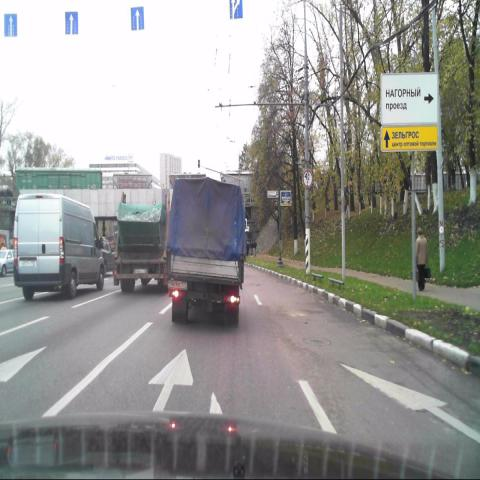5_15_2: (228, 0, 243, 22)
